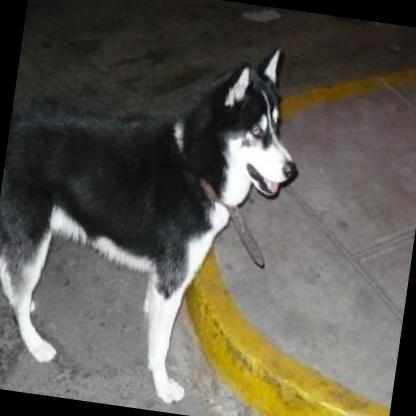Siberian_husky: (0, 4, 314, 415)
